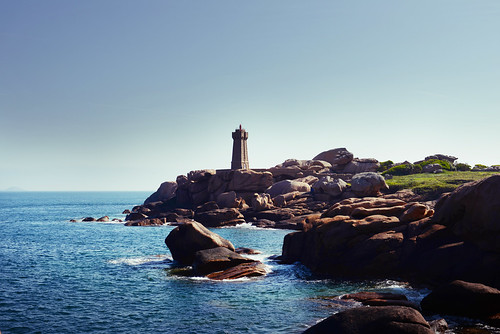building: (227, 125, 253, 173)
rocks: (140, 154, 397, 235), (163, 222, 270, 286)
sea: (1, 193, 317, 333)
sky: (7, 1, 500, 174)
